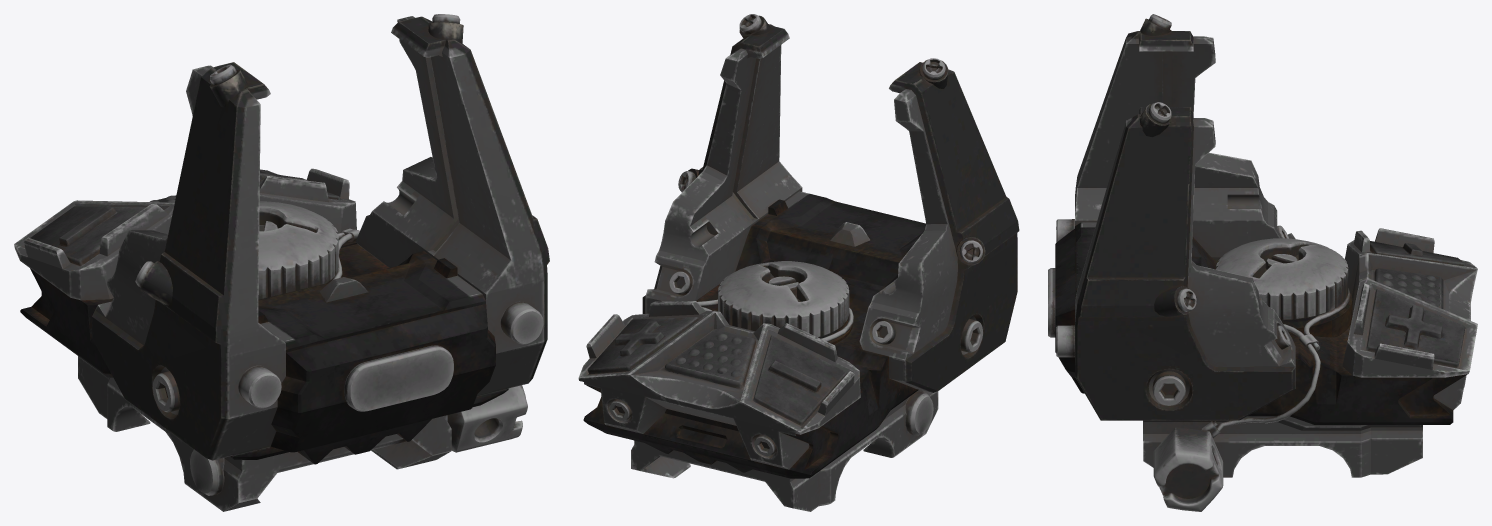
File: Sight_14b.glb
3 views of the same model, side by side, from view 1: azimuth 30°, elevation 25°; view 2: azimuth 150°, elevation 25°; view 3: azimuth 270°, elevation 25° (orthographic). The views are drawn at different scales.
Parts seen in each view (by area): view 1: Sight_14.001; view 2: Sight_14.001; view 3: Sight_14.001.
Boxes of the visible parts, <box> form: Sight_14.001: <box>14,14,549,511</box>; Sight_14.001: <box>578,14,1019,511</box>; Sight_14.001: <box>1048,14,1477,511</box>.
Size of the model in its own units: 0.0456 by 0.0522 by 0.054.
Materials: 1 (1 with a texture image).
